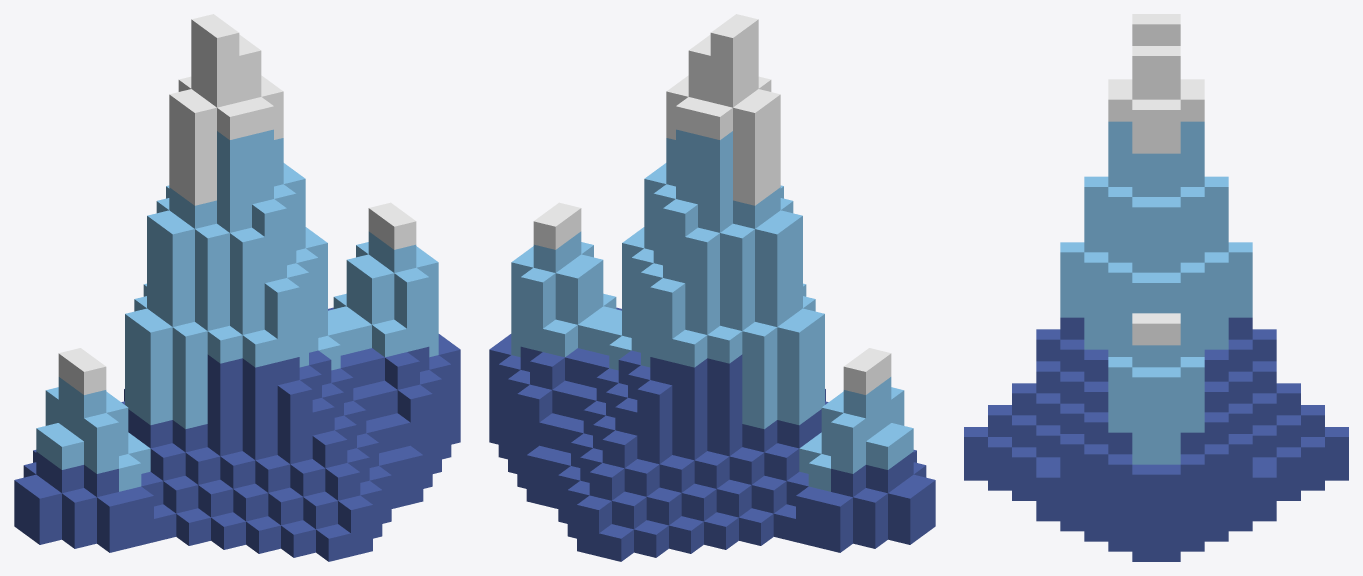
Rendered from Smol-Spike1.obj.
The picture shows the model from 3 angles, left to right: view 1: azimuth 30°, elevation 25°; view 2: azimuth 150°, elevation 25°; view 3: azimuth 270°, elevation 25°; orthographic projection. The views are drawn at different scales.
Size of the model in its own units: 1.9 by 2 by 1.6.
1 material, 1 textured.
